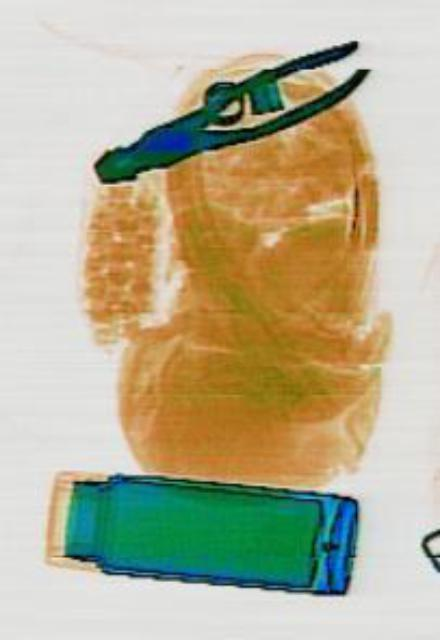Pliers: (84, 26, 370, 204)
